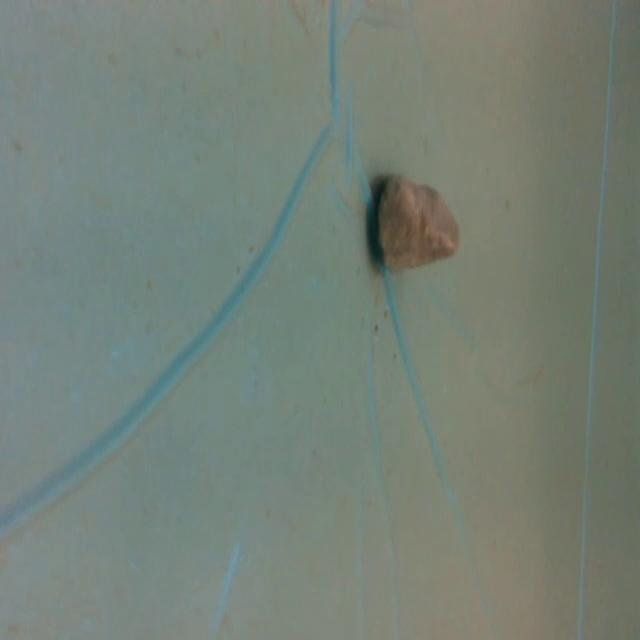rock: (368, 171, 467, 281)
